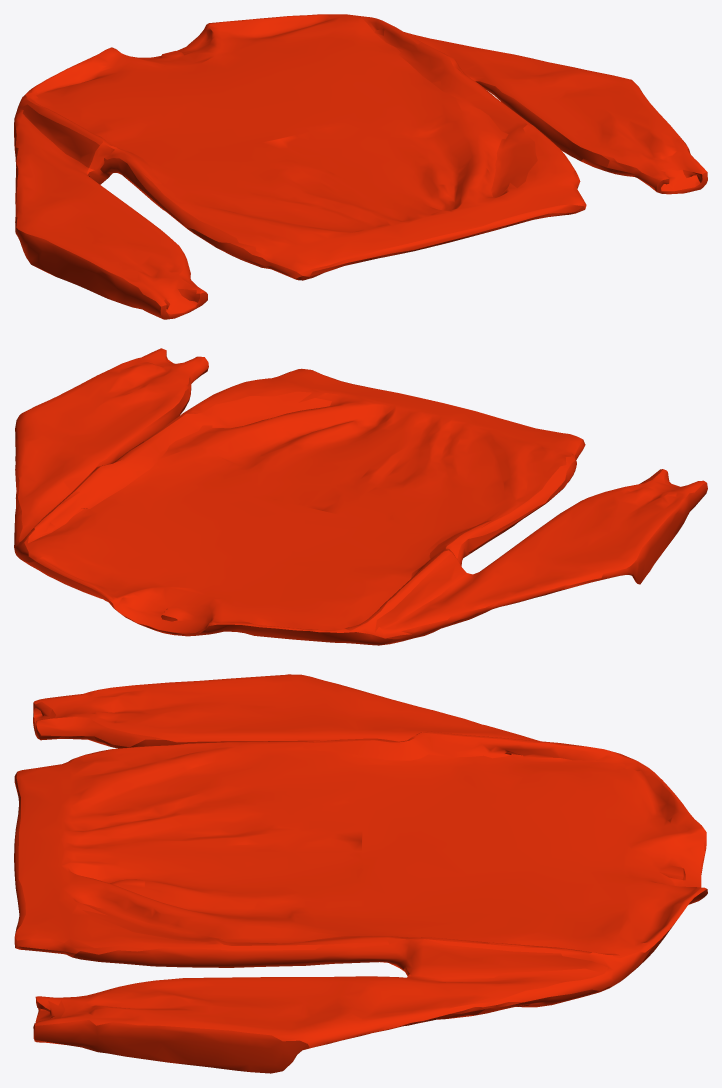
Rendered from flat-sweater.glb.
3 renders of one model, top to bottom at view 1: azimuth 30°, elevation 25°; view 2: azimuth 150°, elevation 25°; view 3: azimuth 270°, elevation 25°, orthographic. The views are drawn at different scales.
Parts seen in each view (by area): view 1: chest_mesh; view 2: chest_mesh; view 3: chest_mesh.
Boxes of the visible parts, bbox=[...] form: chest_mesh: bbox=[14, 14, 707, 319]; chest_mesh: bbox=[14, 348, 707, 645]; chest_mesh: bbox=[14, 674, 707, 1073].
Bounding box in the file's own units: 1 × 0.0747 × 0.8007.
